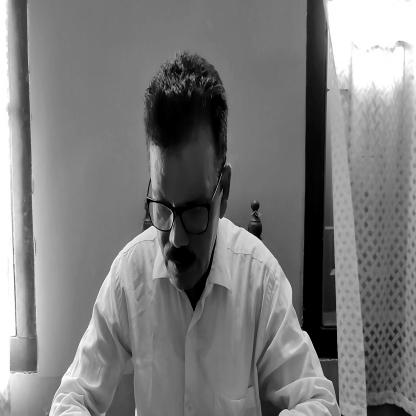Distracted: (144, 53, 228, 284)
